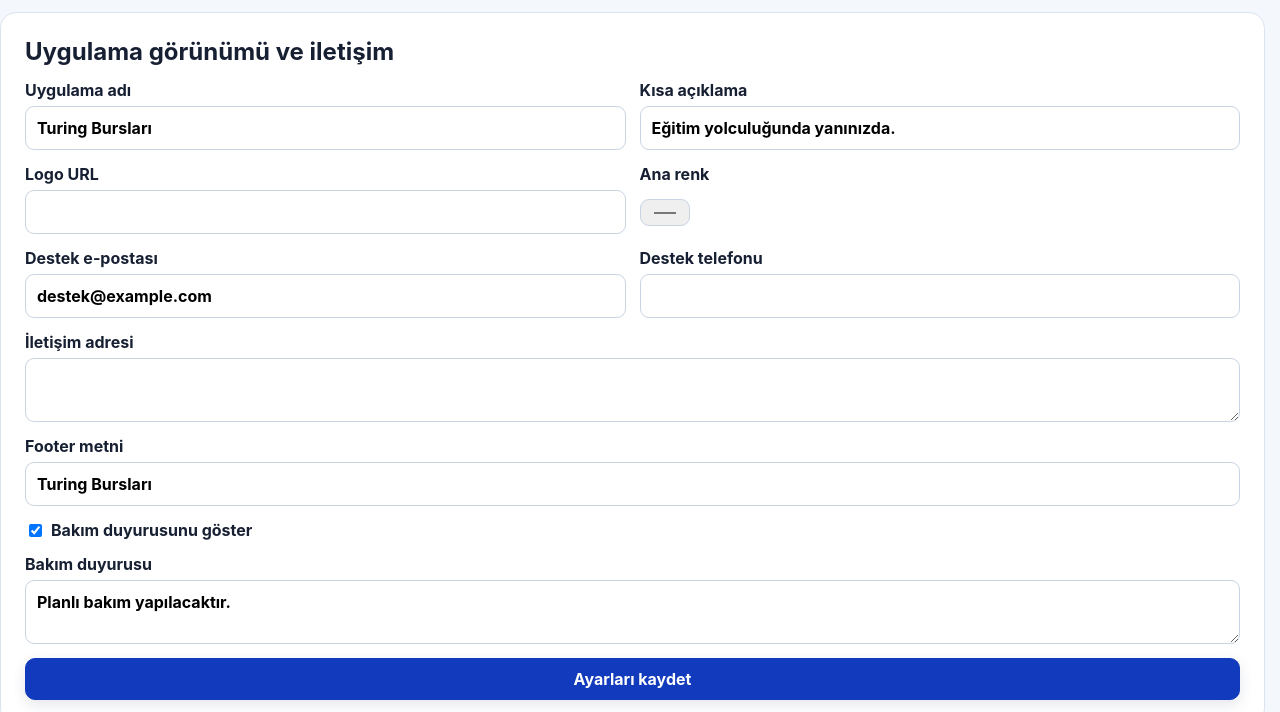
Scenario: dynamic app configuration › updates configuration and refreshes the public value
Replace the text in the field labelled "Uygulama adı" with "Yeni Uygulama Adı": (325, 128) [25,106,626,150]
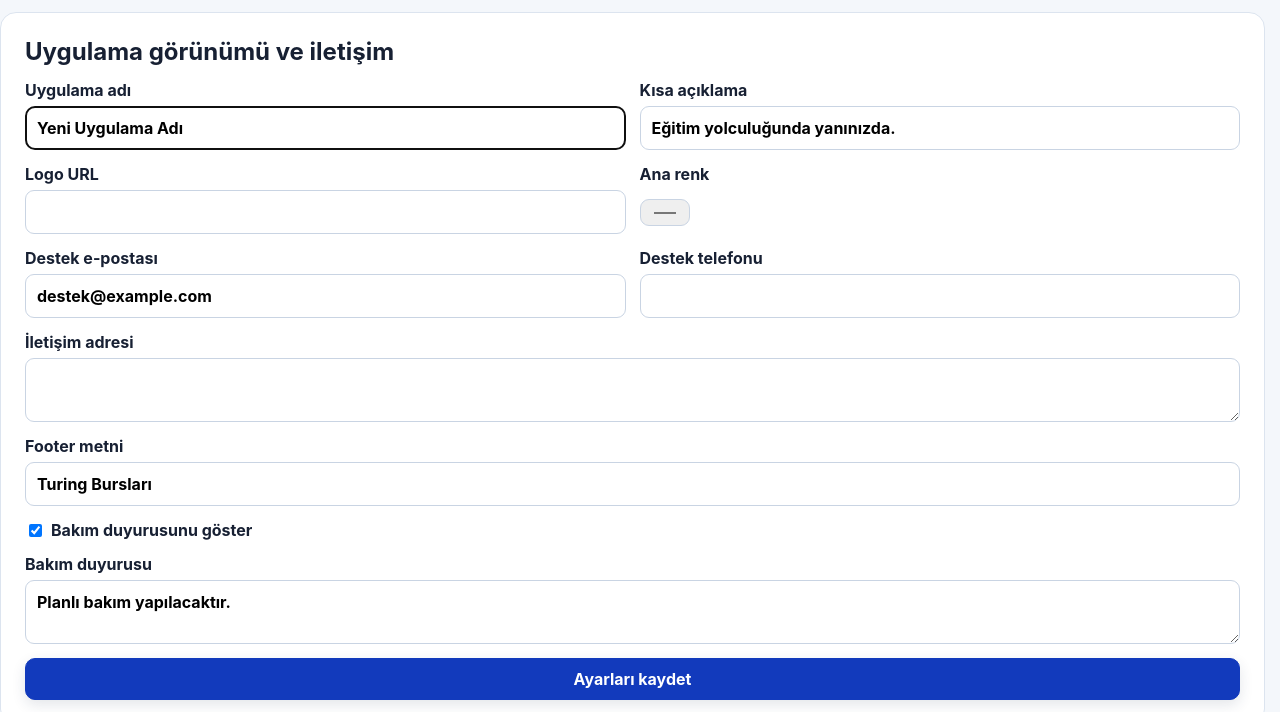
Click the button "Ayarları kaydet": (632, 679) [25,658,1240,700]
(page scrolled)
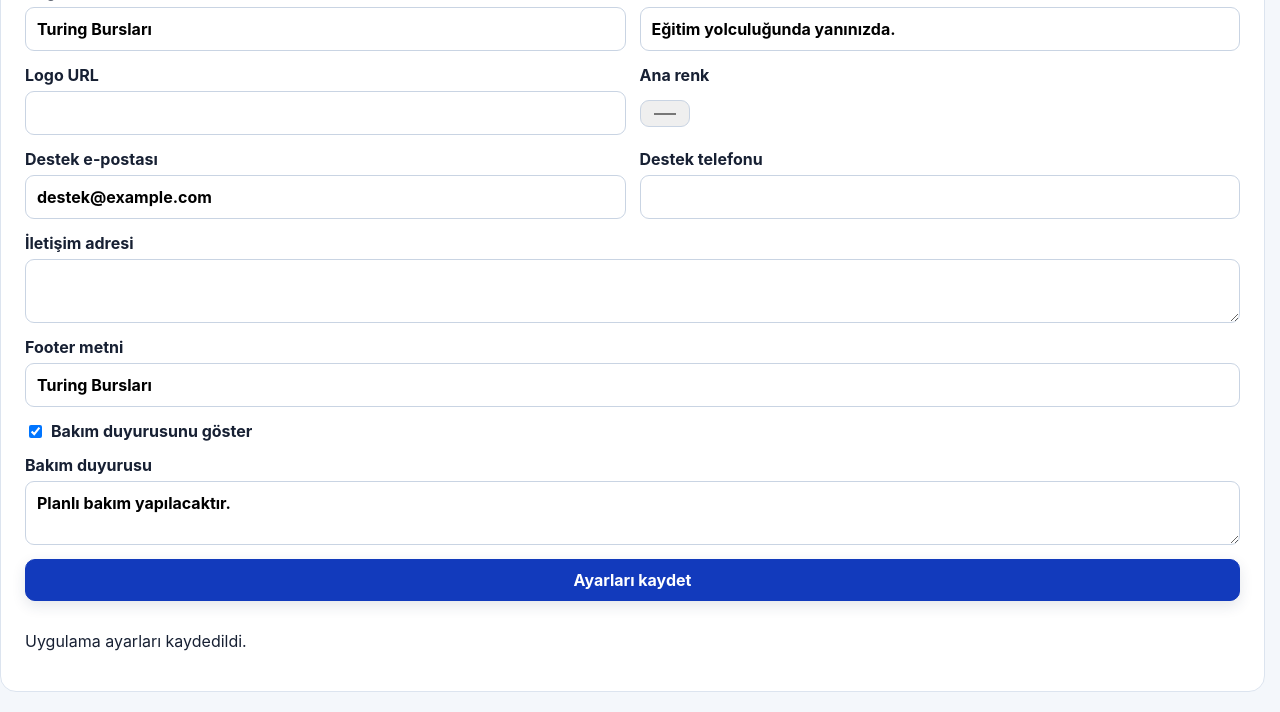
Now the text "Uygulama ayarları kaydedildi." is shown, box [25,631,247,651]
